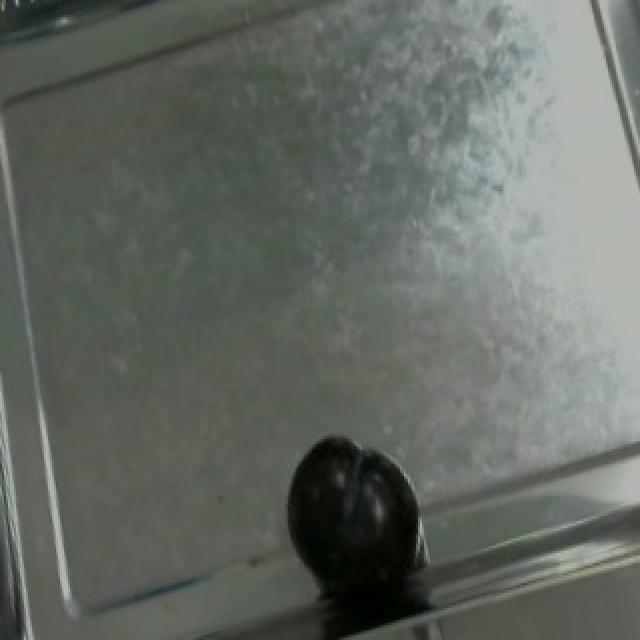Fruit: (270, 429, 430, 630)
